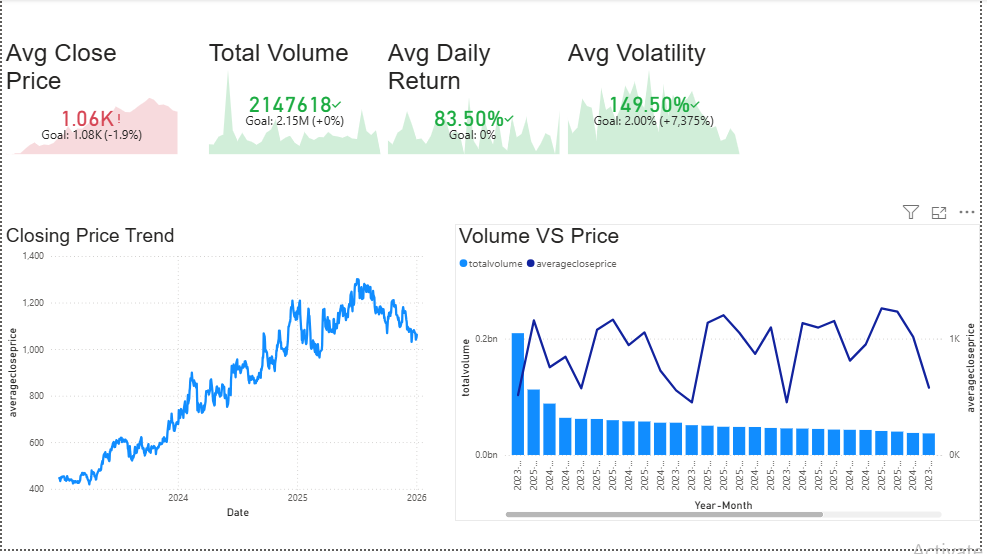

What the dashboard file says about the page in this screenshot:
{"tool":"powerbi","page":{"name":"market overview","canvas":[1280,720],"ordinal":0},"visuals":[{"type":"kpi","title":"Avg Close Price","fields":{"Goal":["public vw_maxhealthcare_analysis.Previous Month Avg Close Price"],"Indicator":["public vw_maxhealthcare_analysis.averagecloseprice"],"TrendLine":["Calendar.Year-Month"]},"box":[0,52.1,235.2,156.2],"z":0},{"type":"kpi","title":"Total Volume","fields":{"Indicator":["public vw_maxhealthcare_analysis.totalvolume"],"Goal":["public vw_maxhealthcare_analysis.Average Monthly Volume"],"TrendLine":["Calendar.Year-Month"]},"box":[265.4,52.1,235.2,156.2],"z":1000},{"type":"kpi","title":"Avg Daily Return","fields":{"Indicator":["public vw_maxhealthcare_analysis.averagedailyreturn"],"Goal":["public vw_maxhealthcare_analysis.breakevenreturn"],"TrendLine":["Calendar.Year-Month"]},"box":[500.6,52.1,235.2,156.2],"z":2000},{"type":"kpi","title":"Avg Volatility","fields":{"Indicator":["public vw_maxhealthcare_analysis.averagevolatility"],"Goal":["public vw_maxhealthcare_analysis.Volatility Threshold"],"TrendLine":["Calendar.Year-Month"]},"box":[735.7,52.1,235.2,156.2],"z":3000},{"type":"lineChart","title":"Closing Price Trend","fields":{"Y":["public vw_maxhealthcare_analysis.averagecloseprice"],"Category":["Calendar.Date"]},"box":[0,294,561,389.7],"z":4000},{"type":"lineClusteredColumnComboChart","title":"Volume VS Price","fields":{"Category":["Calendar.Year-Month"],"Y":["public vw_maxhealthcare_analysis.totalvolume"],"Y2":["public vw_maxhealthcare_analysis.averagecloseprice"]},"box":[593,294,687,389.7],"z":5000}]}

Visuals, with their boxes in screenshot pixels (x1, y1, x2, y2), scaled from the page's 1280x720 canvas onto the 987x554 screenshot:
"Avg Close Price" kpi: crop(0, 40, 181, 160)
"Total Volume" kpi: crop(205, 40, 386, 160)
"Avg Daily Return" kpi: crop(386, 40, 567, 160)
"Avg Volatility" kpi: crop(567, 40, 749, 160)
"Closing Price Trend" lineChart: crop(0, 226, 433, 526)
"Volume VS Price" lineClusteredColumnComboChart: crop(457, 226, 986, 526)
